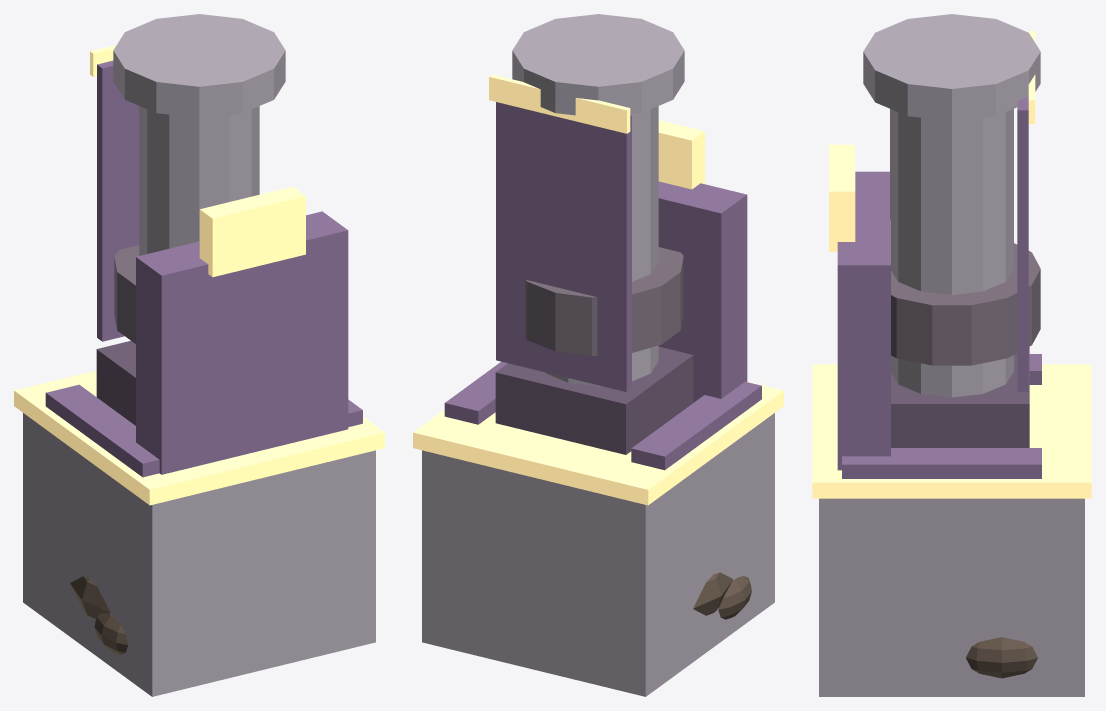
The model's file is kit-throne.glb.
The picture shows the model from 3 angles, left to right: view 1: azimuth 30°, elevation 25°; view 2: azimuth 150°, elevation 25°; view 3: azimuth 270°, elevation 25°; orthographic projection. The views are drawn at different scales.
Parts seen in each view (by area): view 1: throne_pedestal, throne_throne, throne_banner, throne_brazier, throne_filth; view 2: throne_pedestal, throne_banner, throne_throne, throne_brazier, throne_filth; view 3: throne_pedestal, throne_banner, throne_throne, throne_brazier, throne_filth.
Part boxes in pixels (<box>): throne_pedestal: <box>14,341,384,696</box>; throne_throne: <box>45,186,362,477</box>; throne_banner: <box>90,14,285,341</box>; throne_brazier: <box>114,245,139,343</box>; throne_filth: <box>70,576,127,654</box>; throne_pedestal: <box>413,346,783,696</box>; throne_banner: <box>489,14,684,391</box>; throne_throne: <box>444,120,761,470</box>; throne_brazier: <box>525,247,683,355</box>; throne_filth: <box>693,572,751,619</box>; throne_pedestal: <box>812,346,1091,696</box>; throne_banner: <box>863,14,1040,397</box>; throne_throne: <box>829,144,1041,478</box>; throne_brazier: <box>891,243,1040,365</box>; throne_filth: <box>966,637,1037,678</box>.
Bounding box in the file's own units: 1.31 × 2.93 × 1.26.
